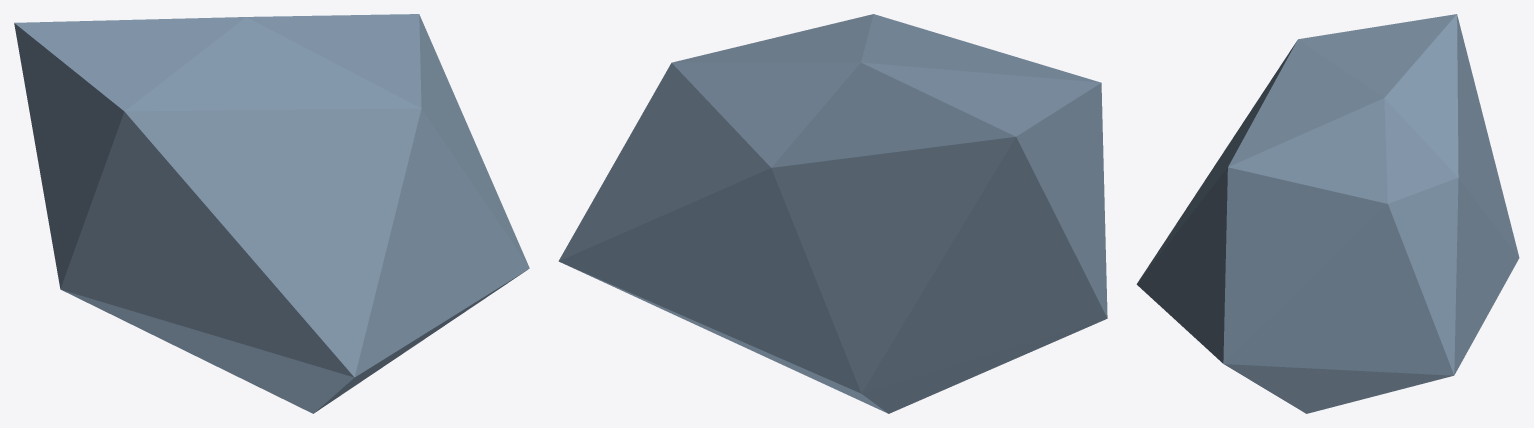
The model's file is Rock_10.fbx.
The picture shows the model from 3 angles, left to right: view 1: azimuth 30°, elevation 25°; view 2: azimuth 150°, elevation 25°; view 3: azimuth 270°, elevation 25°; orthographic projection. The views are drawn at different scales.
Visible parts, largest first — view 1: M_Rock 10; view 2: M_Rock 10; view 3: M_Rock 10.
Part boxes in pixels (bbox=[...]): M_Rock 10: bbox=[14, 14, 529, 413]; M_Rock 10: bbox=[558, 14, 1107, 413]; M_Rock 10: bbox=[1136, 14, 1519, 413].
Bounding box in the file's own units: 1.08 × 0.8621 × 0.9511.
Materials: 1 (1 with a texture image).
